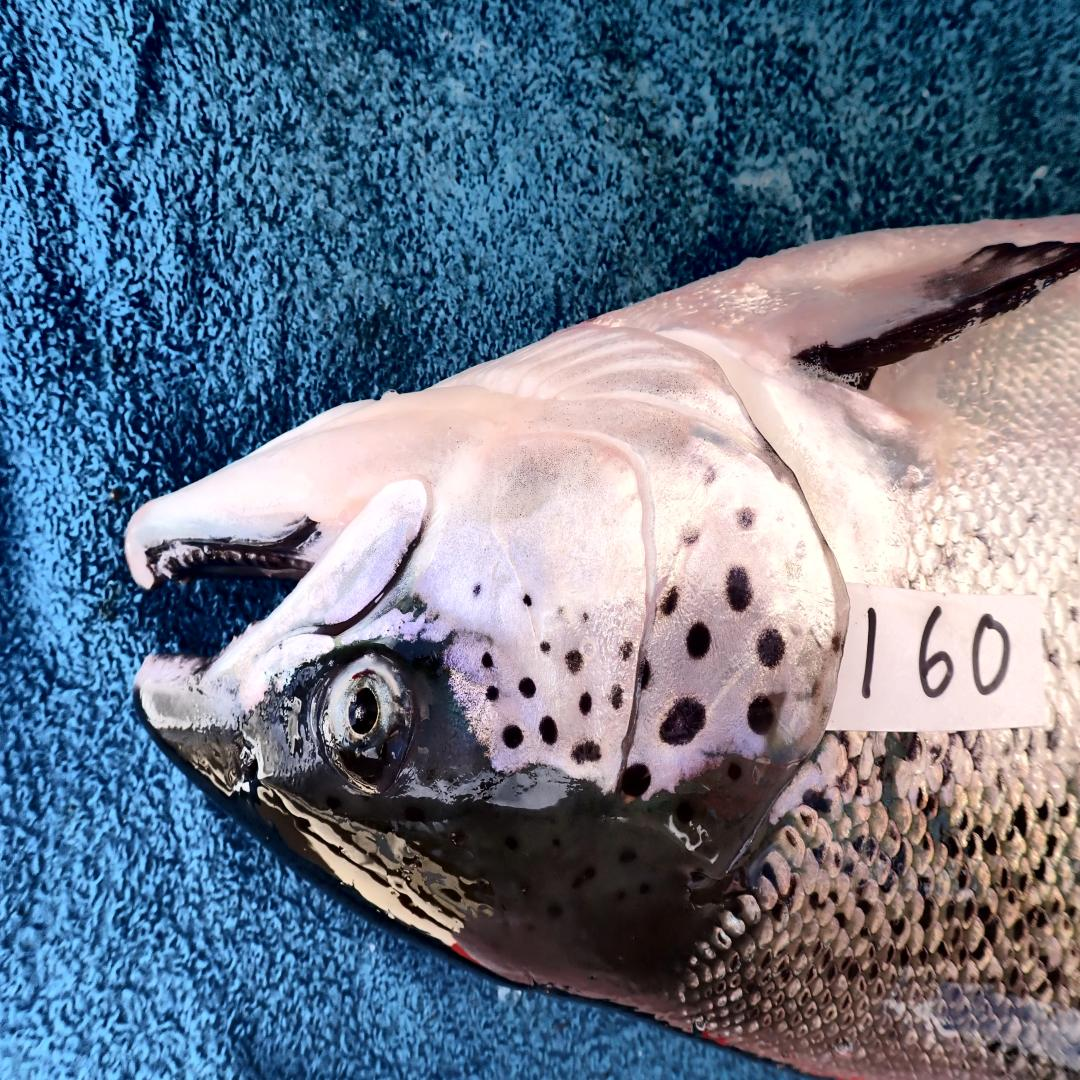spot: (660, 698, 707, 745), (757, 627, 785, 669), (726, 568, 753, 610), (747, 695, 774, 734), (622, 762, 652, 796), (686, 622, 711, 658), (572, 740, 601, 765), (538, 717, 557, 745), (660, 588, 679, 616), (502, 726, 523, 748), (565, 650, 582, 672), (739, 510, 755, 532), (640, 658, 651, 689), (519, 678, 536, 698), (578, 692, 593, 714), (679, 529, 697, 547), (610, 683, 622, 709), (620, 641, 633, 661), (481, 652, 494, 669), (703, 468, 715, 486), (485, 686, 500, 700), (832, 636, 841, 655), (523, 593, 532, 608), (540, 641, 551, 652), (472, 584, 481, 597), (558, 607, 565, 616), (582, 613, 588, 622)
